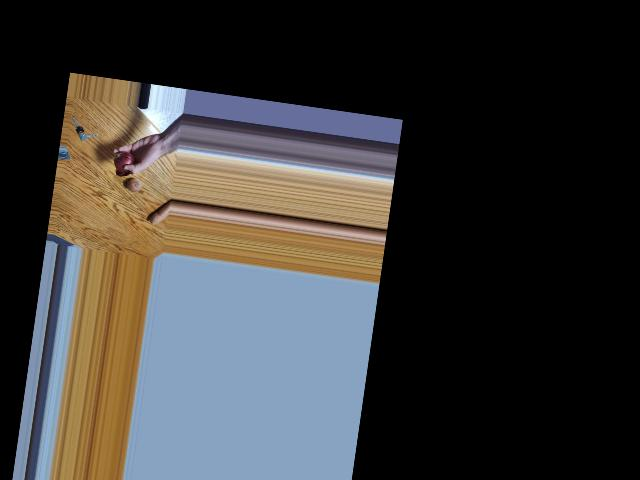onion: (113, 149, 134, 173)
